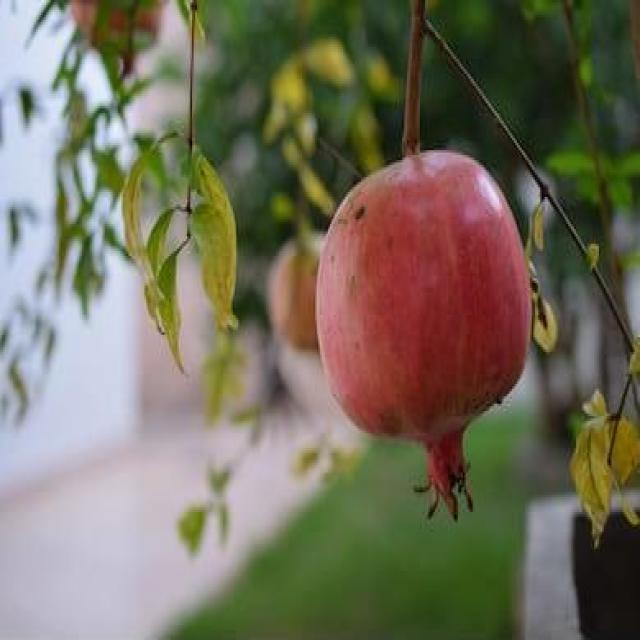Pomegranate: (316, 144, 532, 526)
